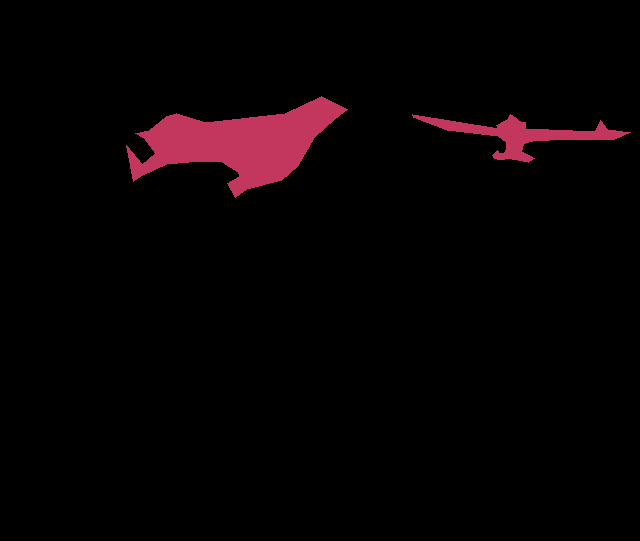Airplane: (126, 96, 348, 197), (412, 114, 631, 162)
